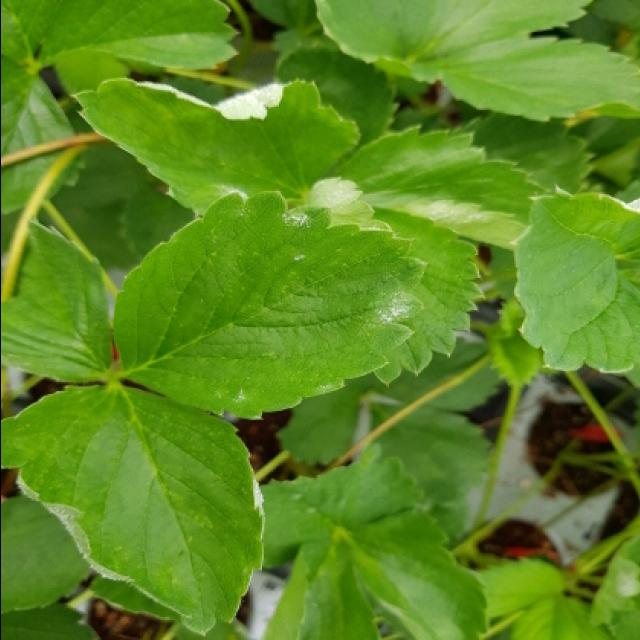Powdery Mildew Leaf: (112, 188, 427, 421), (2, 383, 266, 638), (67, 77, 360, 217), (304, 178, 486, 386), (324, 123, 550, 250)
